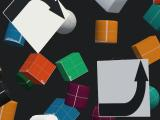Left: (97, 59, 150, 117)
Right: (2, 0, 70, 54)
